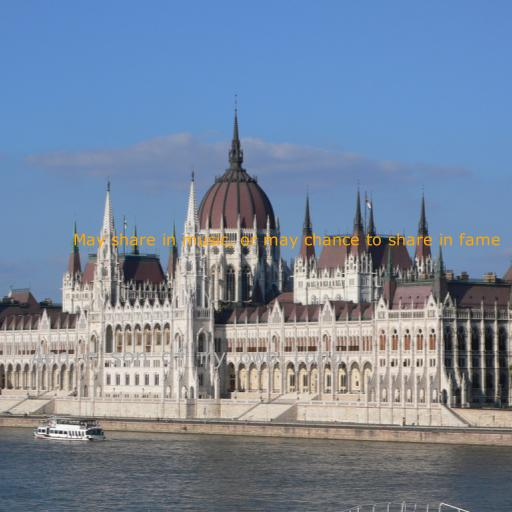Monaco: (31, 346, 343, 369)
Verdana: (73, 233, 501, 249)
